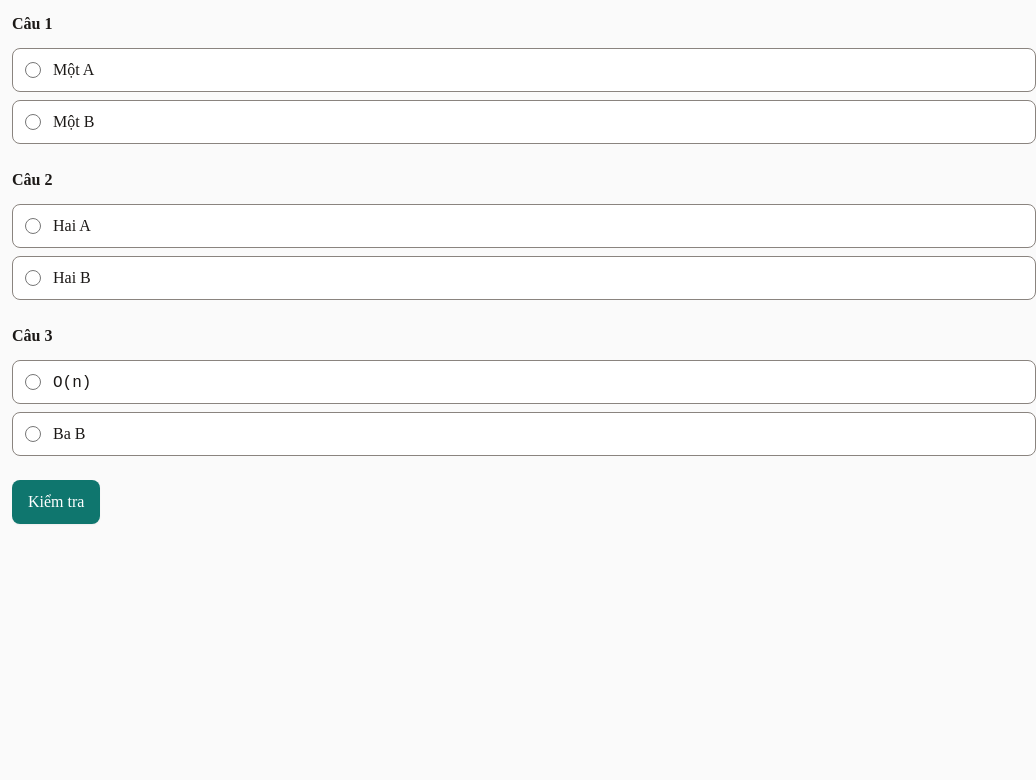
Scenario: Quiz › counts a question without a selection as wrong
Click the radio button labelled "Một A". click: x=33, y=70
box: [25, 62, 41, 78]
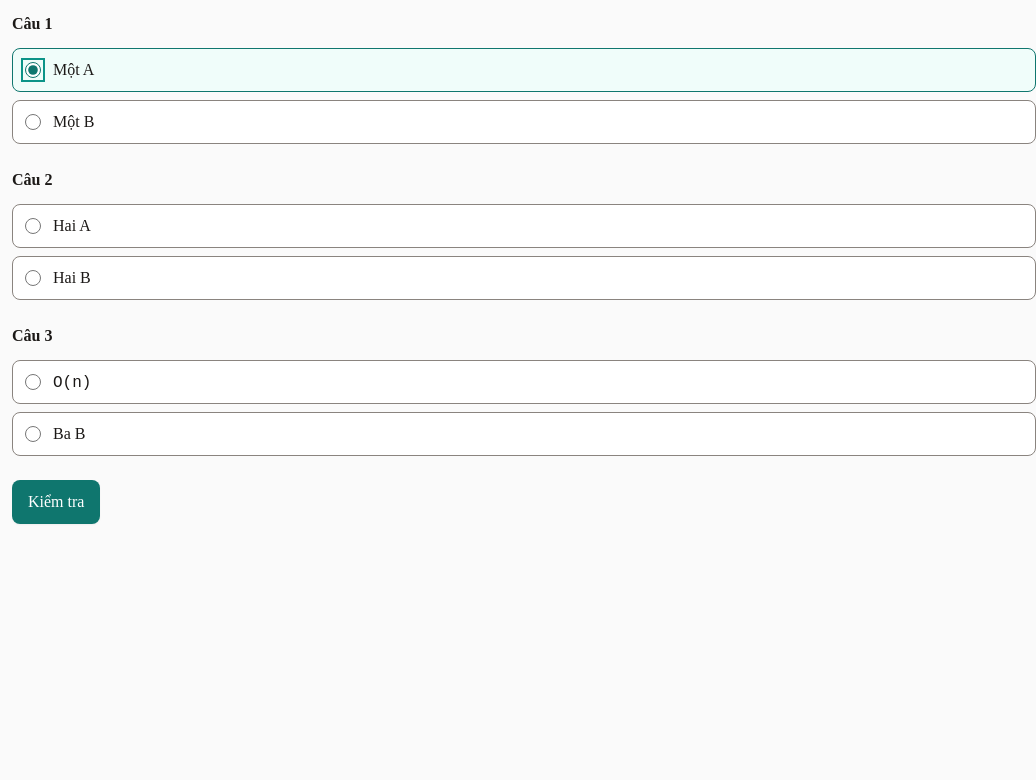
Click the radio button labelled "Hai B". click: x=33, y=278
box: [25, 270, 41, 286]
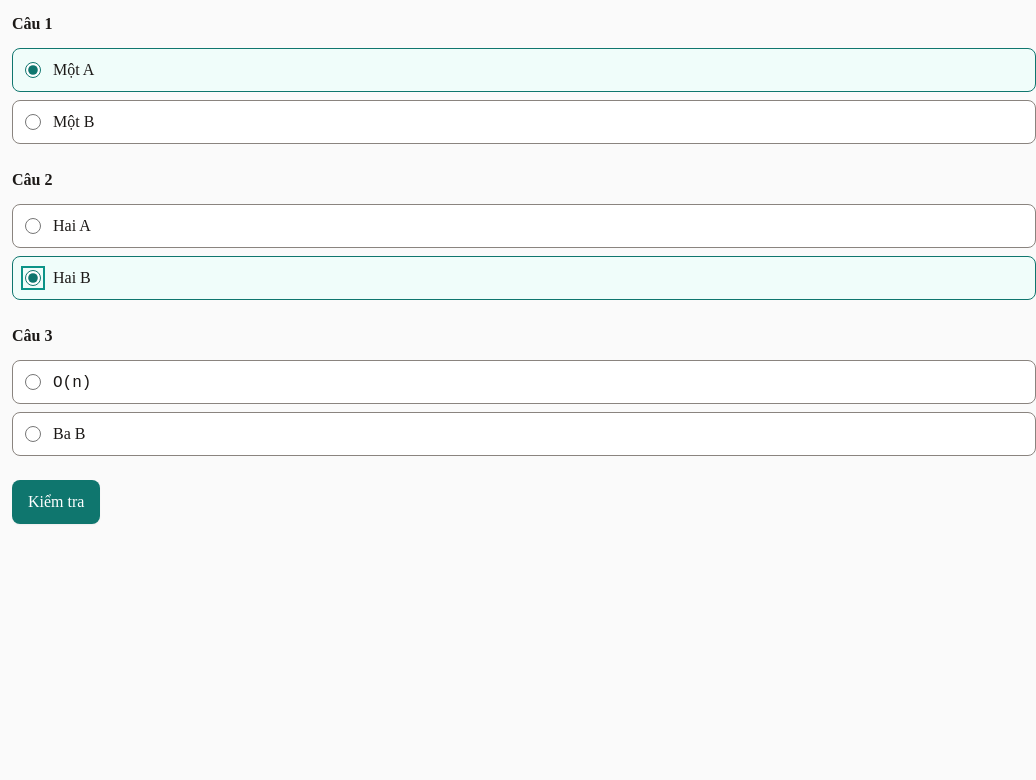
Click the button "Kiểm tra". click: x=56, y=502
box: [12, 480, 100, 524]
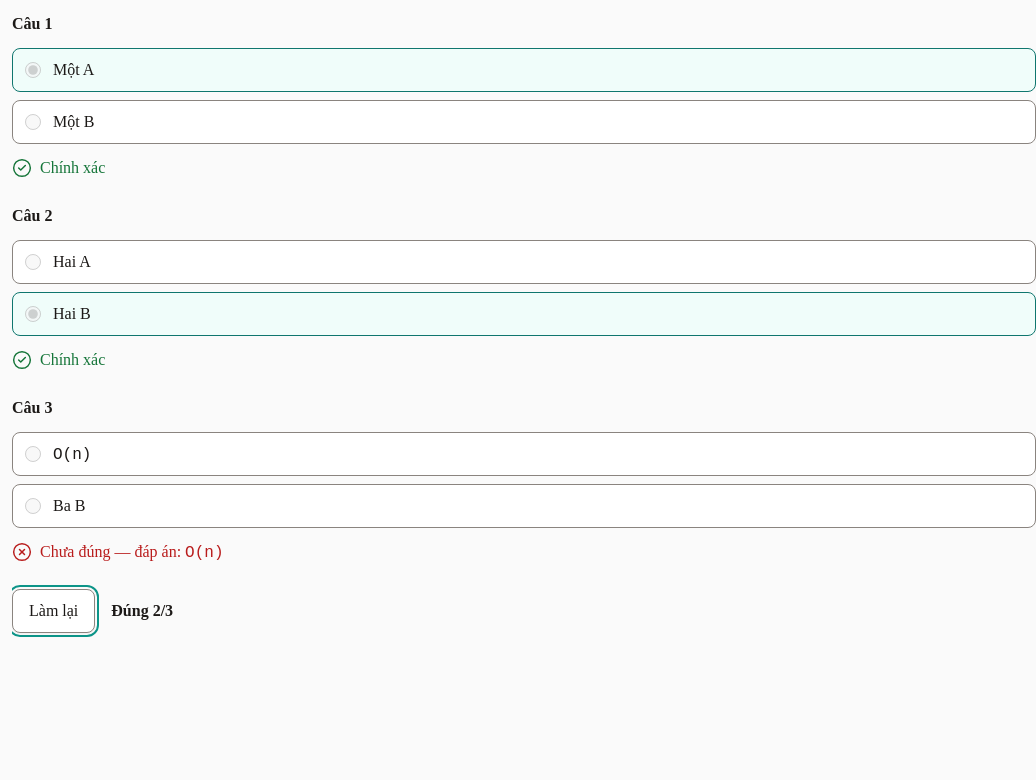
Expected: the element showing "Chưa đúng — đáp án: O(n)" is shown, [12, 542, 224, 562]
